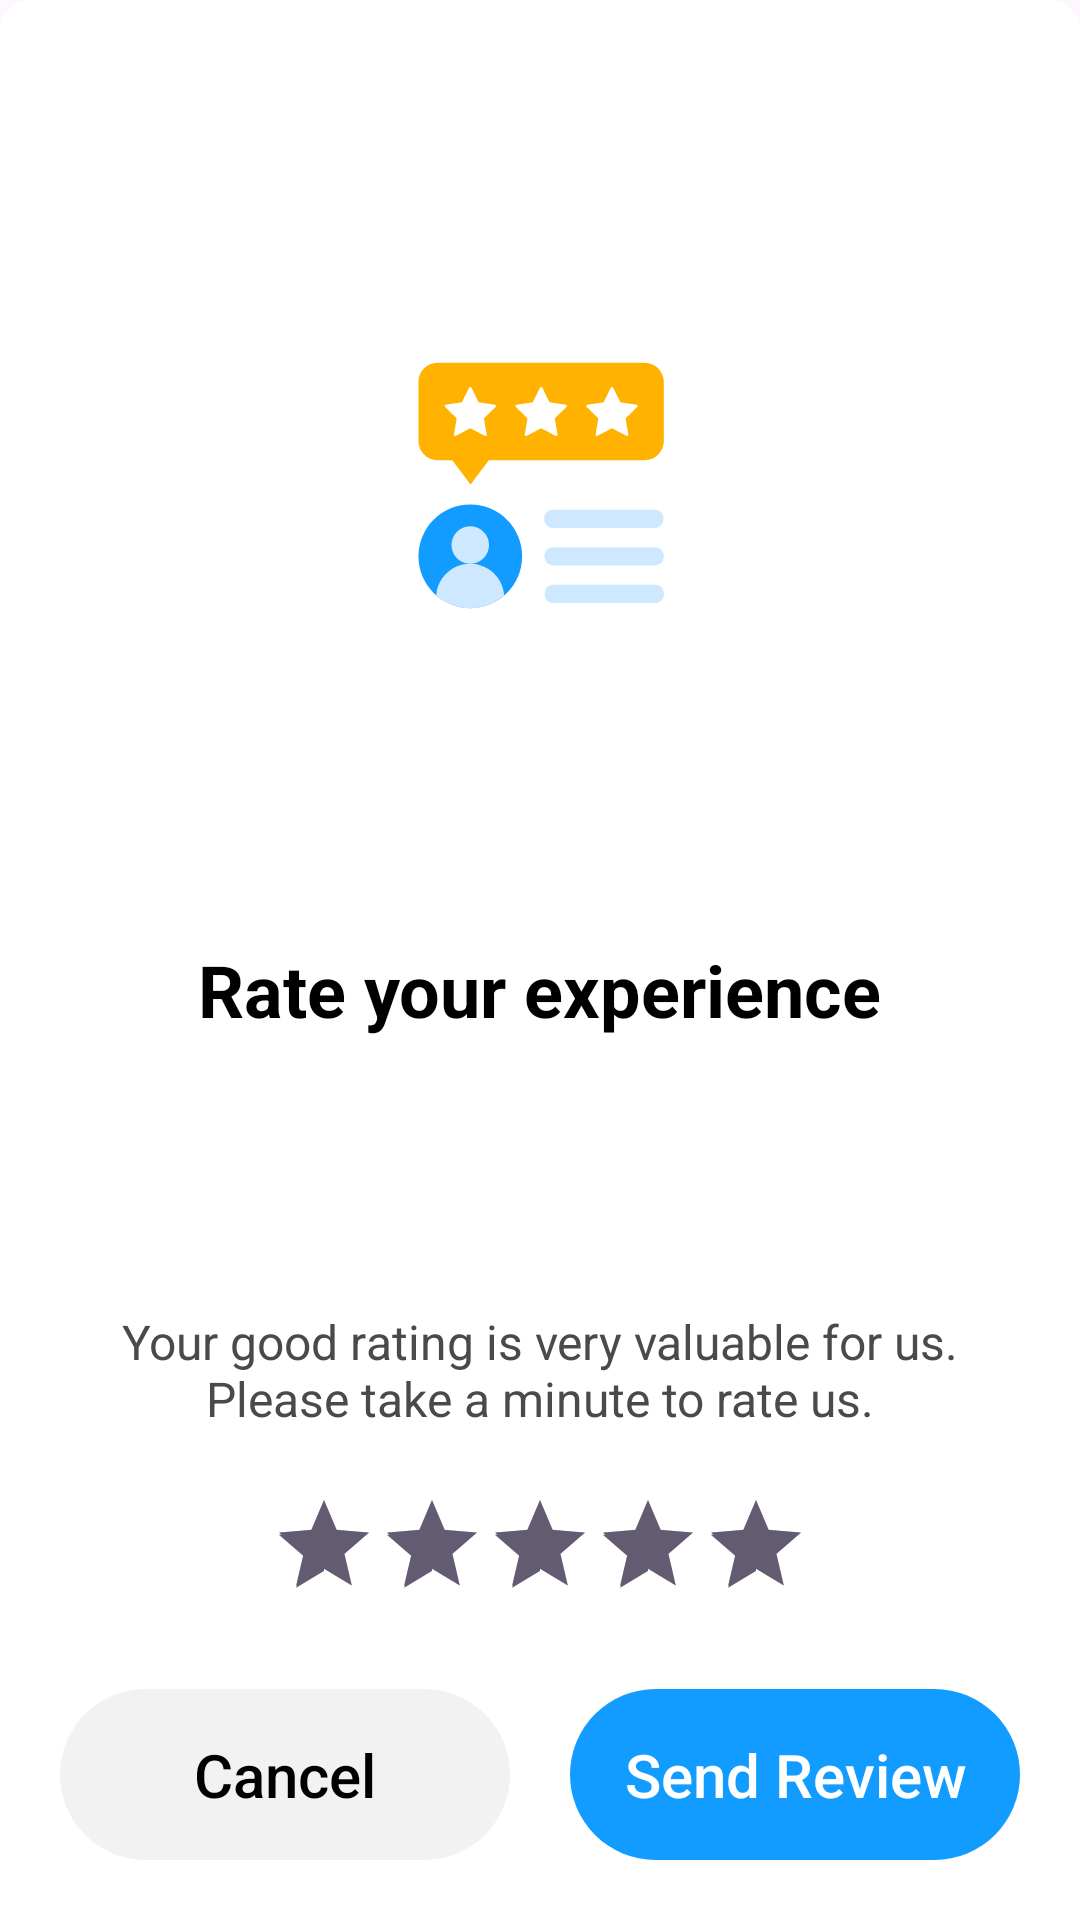

Where to tap for icons on this 1080px×1920px app screen, as (x=x, y=y):
rating: (x=541, y=485)
